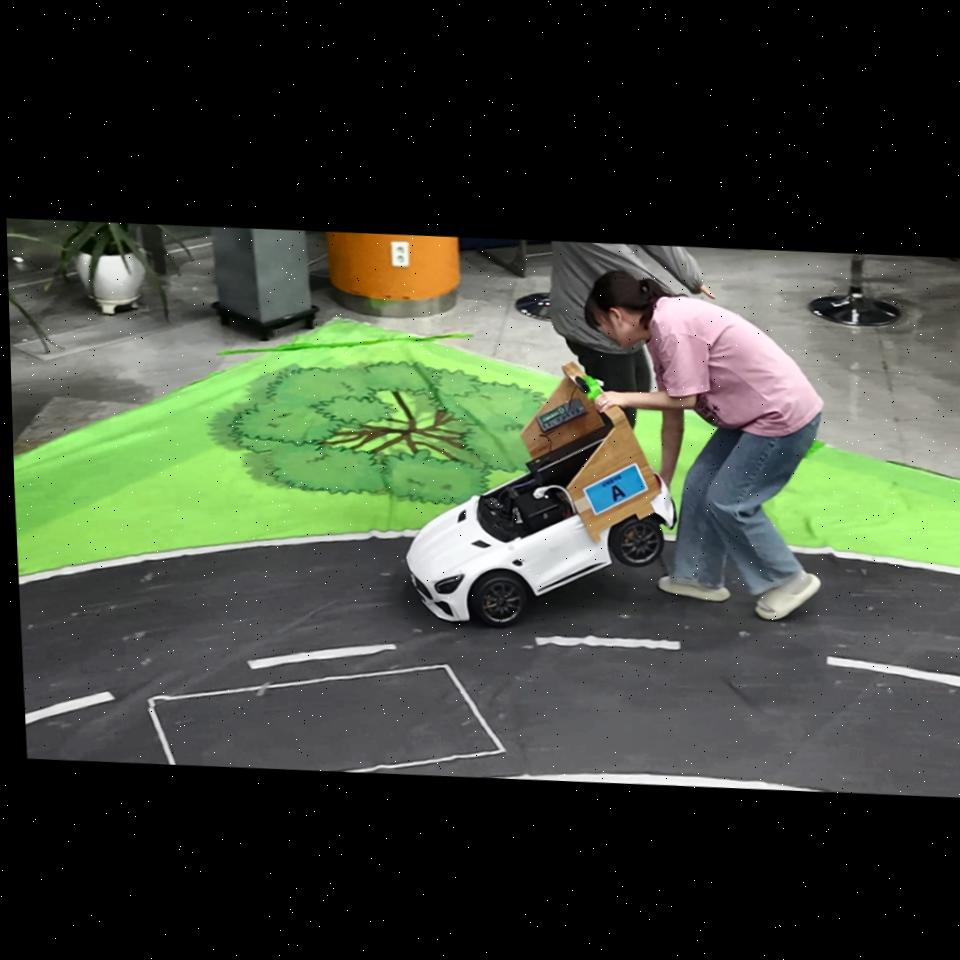broken_line: (827, 657, 960, 687), (246, 644, 396, 669), (25, 691, 115, 724), (535, 635, 681, 650)
